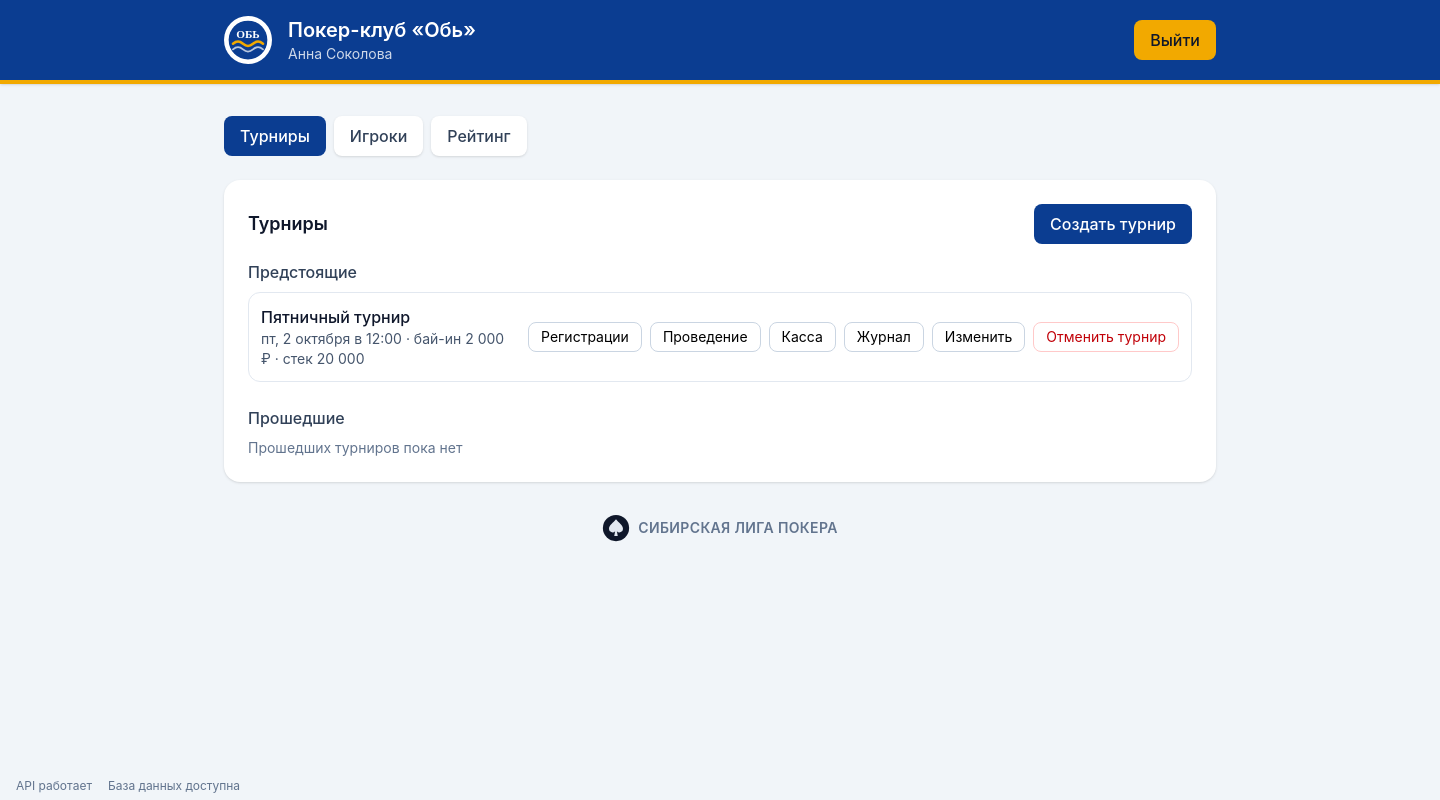
running a tournament › sums the tournament up: in the game, registered, entries and no-shows
The image size is (1440, 800).
Click the button "Проведение" at (705, 337), box [650, 322, 761, 352]
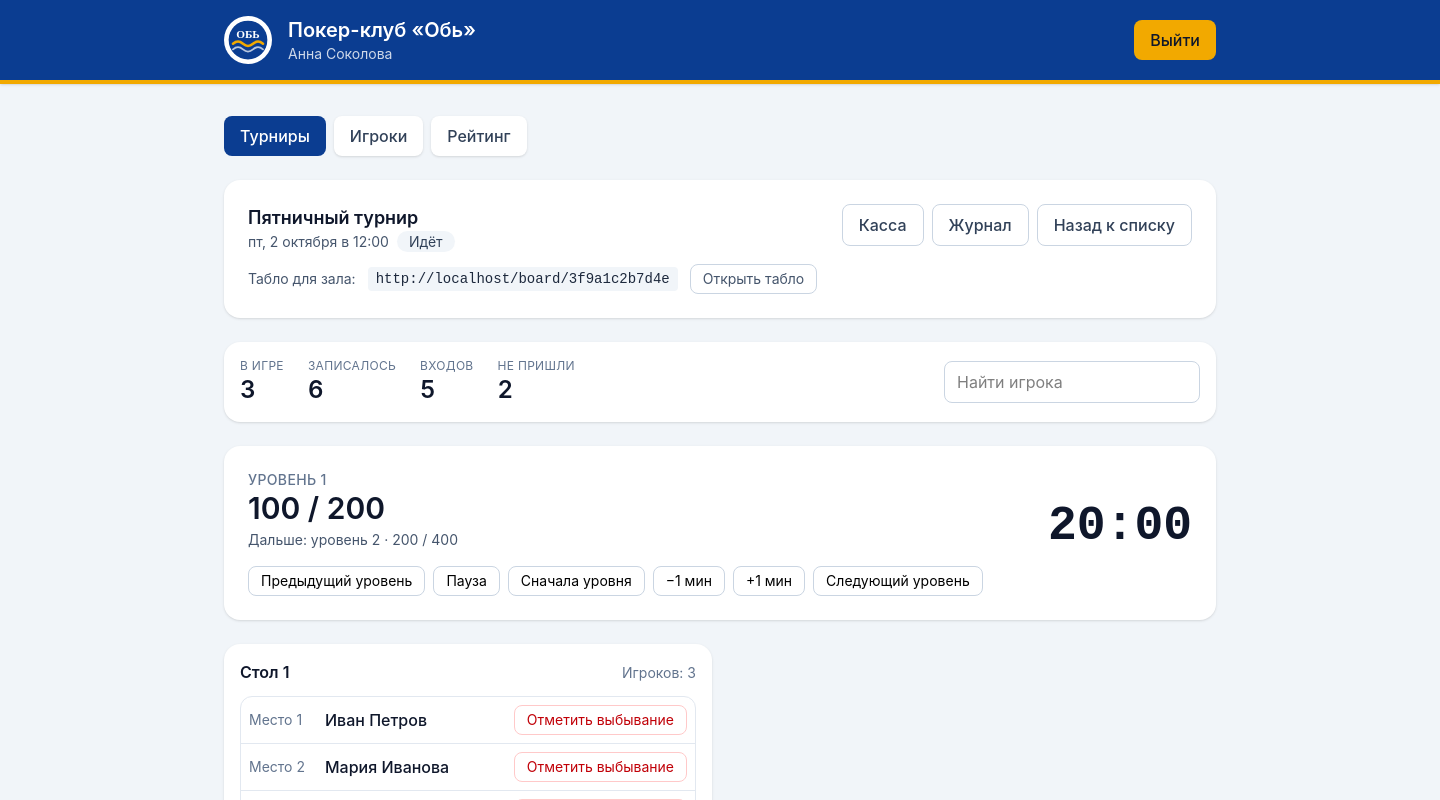
Result: the heading "Пятничный турнир" is shown at [248, 207, 418, 228]
